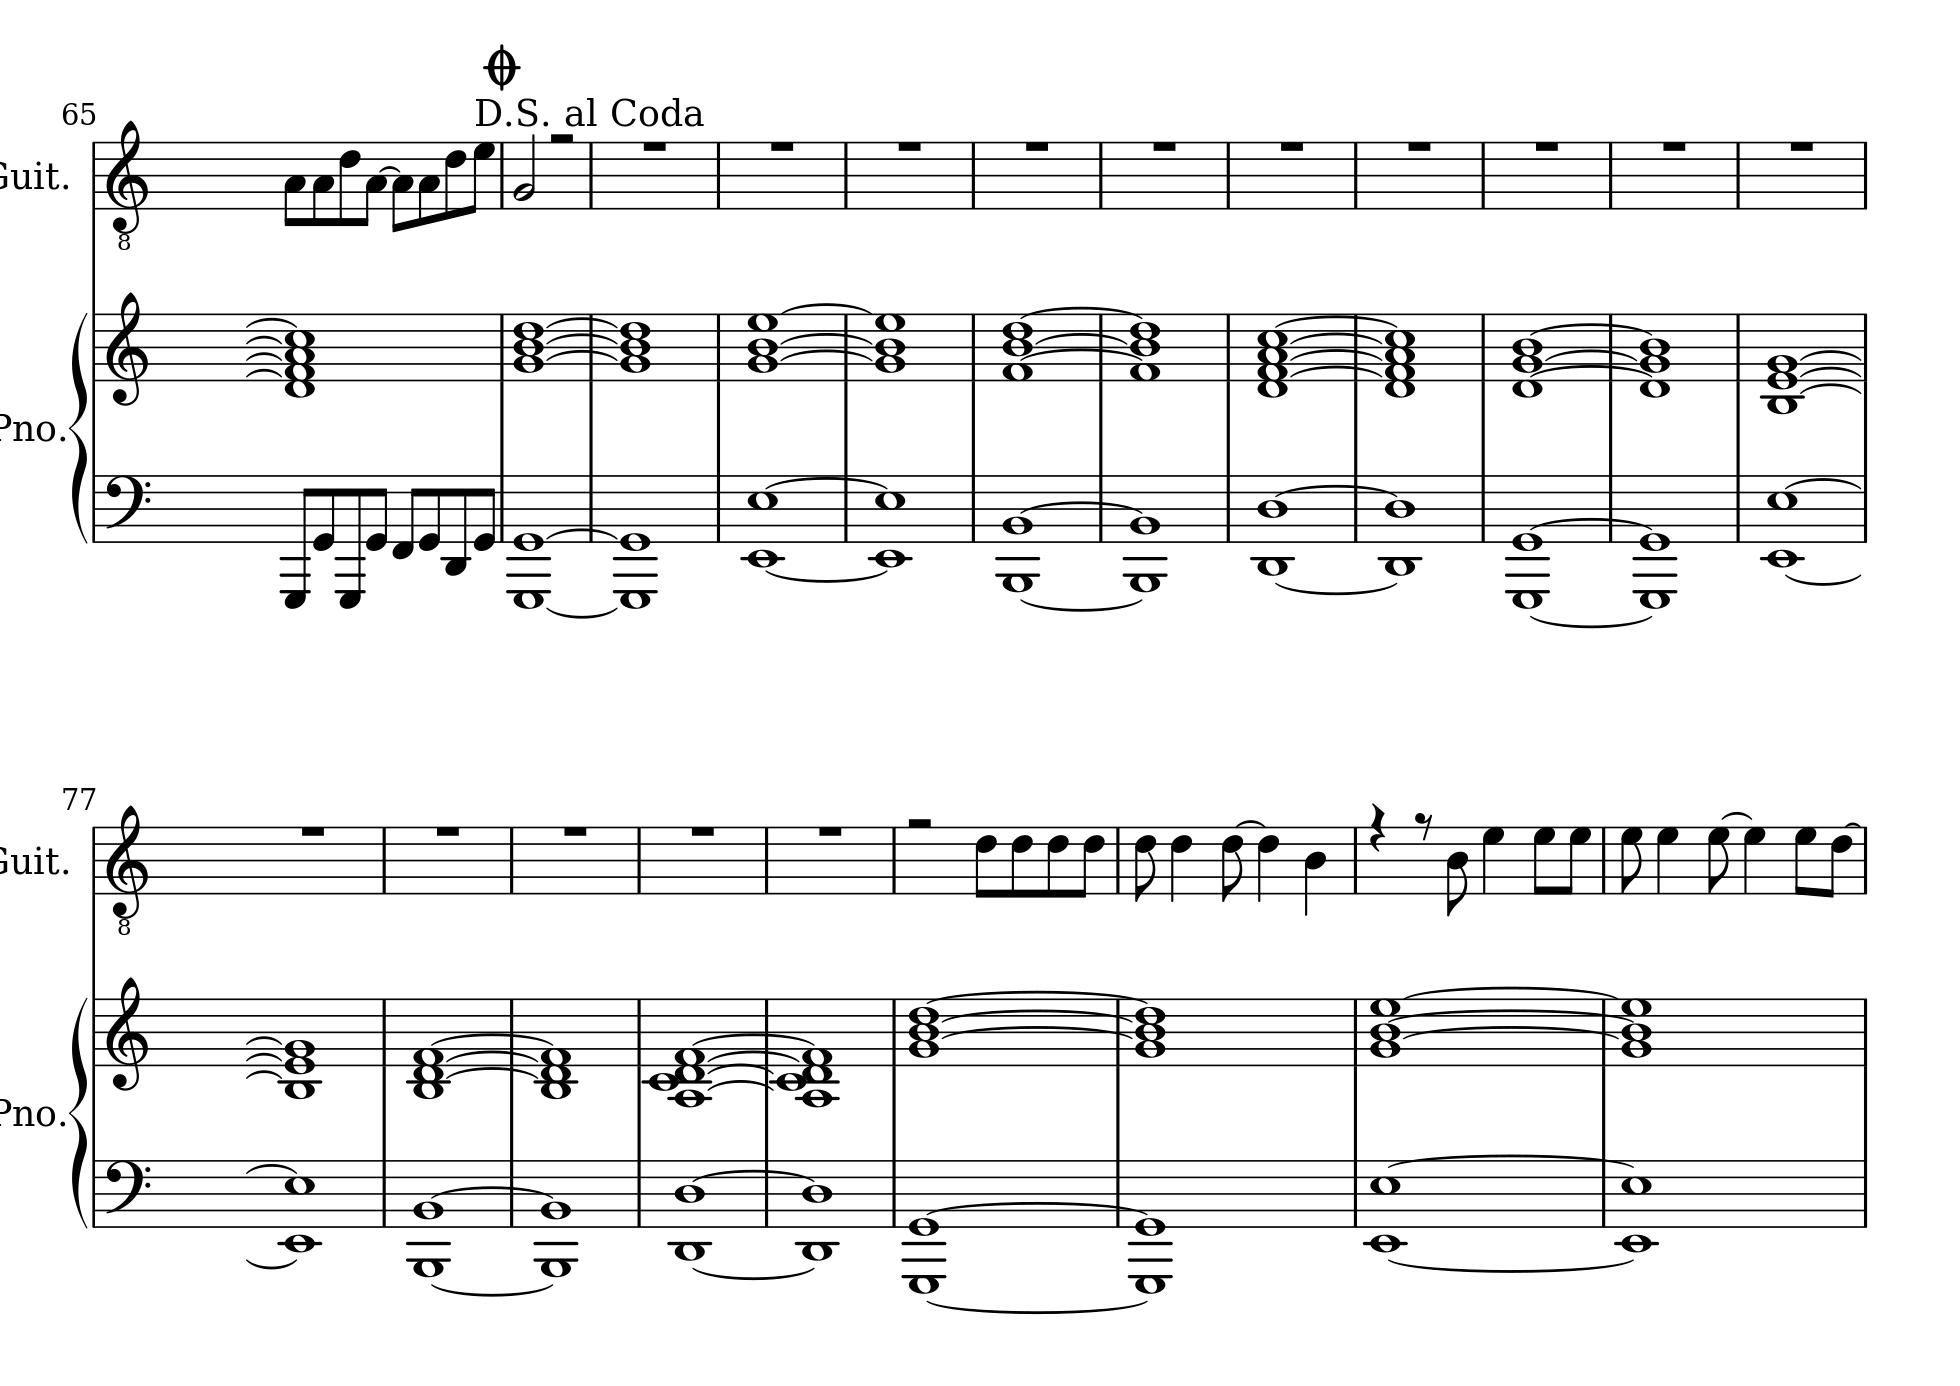1_-2_5: (1758, 475, 1809, 568), (1614, 1159, 1662, 1255), (1362, 1159, 1411, 1252), (279, 1158, 324, 1255), (874, 474, 910, 568), (745, 474, 778, 568)
1_-3_4: (1377, 472, 1426, 577), (1249, 472, 1297, 577), (667, 1159, 714, 1263), (796, 1158, 838, 1263)
1_-5_2: (1123, 472, 1173, 595), (994, 474, 1044, 595), (534, 1158, 582, 1279), (406, 1158, 453, 1278)
1_-7_0: (1503, 474, 1554, 610), (505, 474, 553, 612), (1632, 472, 1680, 610), (901, 1156, 949, 1294), (1128, 1159, 1176, 1294), (613, 472, 658, 609)
1_4th: (772, 997, 841, 1108), (646, 999, 712, 1108), (283, 312, 316, 400), (1257, 310, 1288, 399), (1384, 310, 1416, 397)
1_th: (280, 997, 319, 1101), (537, 997, 574, 1099), (1764, 313, 1800, 415), (409, 997, 445, 1099), (1512, 310, 1543, 399), (1639, 312, 1671, 397), (618, 310, 652, 382), (873, 310, 907, 382), (511, 310, 544, 382), (745, 310, 778, 382), (907, 996, 940, 1066), (1368, 996, 1401, 1066), (1620, 996, 1653, 1066), (1002, 310, 1033, 382), (1129, 310, 1161, 382), (1134, 996, 1165, 1066)
2_2: (511, 132, 537, 211)
4_4: (1303, 823, 1327, 916)
4_6: (1257, 823, 1281, 903), (1170, 823, 1194, 901)
4_7: (1482, 823, 1506, 895), (1656, 825, 1680, 895), (1743, 825, 1767, 895)
5: (79, 99, 96, 127)
6: (60, 99, 79, 127)
7: (61, 783, 78, 811), (79, 783, 96, 811)
8_-1: (390, 472, 421, 559)
8_-3: (442, 474, 471, 577)
8_-7: (280, 472, 315, 610), (336, 474, 366, 610)
8_0: (472, 472, 498, 550), (418, 472, 442, 553), (364, 472, 388, 552), (313, 472, 337, 550)
8_3: (361, 139, 385, 229), (282, 139, 306, 228), (310, 139, 334, 228), (391, 139, 414, 231), (417, 139, 439, 226)
8_4: (1444, 823, 1470, 918)
8_6: (1077, 823, 1108, 898), (1825, 823, 1854, 900), (1219, 823, 1246, 901), (337, 139, 361, 226), (1132, 823, 1158, 901), (973, 823, 999, 900), (442, 139, 466, 220), (1009, 823, 1035, 898), (1047, 823, 1071, 898)
8_7: (1704, 823, 1740, 895), (466, 139, 496, 214), (1791, 825, 1821, 898), (1563, 825, 1593, 895), (1618, 823, 1647, 895), (1533, 825, 1557, 895)
Brace: (67, 994, 90, 1230), (67, 309, 88, 544)
Coda: (483, 42, 520, 91)
DSalcoda: (471, 94, 705, 132)
Fclef: (103, 1158, 153, 1227), (102, 472, 151, 540)
Gclef: (103, 973, 151, 1093), (103, 289, 151, 408)
Guit: (1, 151, 60, 196), (1, 837, 60, 882)
Lower_Gclef: (103, 802, 150, 936), (103, 118, 148, 250)
Pno: (1, 408, 55, 448), (1, 1095, 55, 1131)
Rests1: (297, 820, 330, 840), (639, 136, 670, 154), (766, 136, 798, 154), (894, 136, 925, 154), (1021, 136, 1053, 154), (1149, 136, 1180, 154), (1404, 136, 1435, 154), (1531, 136, 1563, 154), (1659, 136, 1690, 154), (432, 820, 463, 838), (559, 820, 591, 838), (687, 820, 718, 838), (814, 820, 846, 838), (1278, 136, 1308, 154), (1786, 136, 1816, 153)
Rests2: (903, 811, 937, 834), (549, 130, 577, 147)
Rests4: (1368, 801, 1389, 852)
Rests8: (1413, 808, 1435, 841)
Single_barline: (375, 1156, 396, 1228), (502, 1156, 523, 1228), (1602, 472, 1623, 541), (502, 997, 523, 1066), (630, 1156, 649, 1228), (757, 997, 778, 1063), (580, 472, 600, 543), (1093, 472, 1113, 543), (1731, 472, 1749, 543), (1347, 472, 1365, 543), (757, 1158, 775, 1228), (1857, 474, 1875, 543), (375, 825, 393, 894), (502, 825, 520, 894), (757, 825, 775, 894), (964, 141, 982, 208), (964, 312, 982, 379), (1110, 826, 1128, 894), (1596, 826, 1614, 894), (709, 139, 726, 210), (1857, 310, 1873, 381), (711, 472, 727, 543), (966, 472, 982, 543), (885, 823, 901, 894), (1093, 139, 1110, 208), (1348, 139, 1365, 208), (1476, 139, 1492, 208), (1603, 139, 1620, 208), (709, 312, 726, 381), (1476, 472, 1492, 541), (631, 825, 648, 894), (1347, 1158, 1363, 1227), (837, 474, 853, 541), (1858, 826, 1875, 894), (631, 997, 648, 1065), (1857, 997, 1873, 1065), (1731, 313, 1747, 379), (376, 997, 393, 1063), (1857, 1159, 1873, 1225), (886, 1156, 901, 1228), (493, 474, 510, 538), (583, 139, 598, 210), (1857, 139, 1872, 210), (1221, 472, 1236, 543), (1603, 310, 1621, 369), (1221, 139, 1236, 208), (1731, 139, 1746, 208), (87, 997, 102, 1066), (88, 1158, 103, 1227), (1110, 1158, 1125, 1227), (838, 141, 853, 208), (1221, 312, 1236, 379), (1476, 312, 1491, 379), (87, 313, 102, 379), (886, 997, 901, 1063), (493, 313, 508, 376), (87, 141, 100, 210), (1348, 825, 1362, 894), (87, 826, 100, 895), (1596, 1159, 1611, 1221), (88, 474, 102, 541), (1348, 997, 1362, 1063), (496, 139, 508, 211), (838, 313, 853, 370), (1095, 313, 1108, 373), (1350, 313, 1365, 367), (586, 313, 598, 355)
Slur: (925, 1299, 1146, 1317), (1387, 1009, 1638, 1024), (925, 988, 1152, 1005), (1386, 1258, 1633, 1273), (1390, 1153, 1636, 1168), (922, 1201, 1149, 1216), (1404, 985, 1614, 1000), (1402, 1027, 1626, 1041), (937, 1026, 1137, 1041), (937, 1009, 1134, 1024), (1530, 517, 1650, 535), (1275, 481, 1401, 498), (427, 1183, 549, 1200), (1530, 321, 1647, 337), (765, 475, 891, 490), (1020, 595, 1143, 610), (690, 1167, 813, 1182), (1272, 313, 1393, 328), (1020, 499, 1140, 514), (1537, 364, 1650, 379), (432, 1282, 555, 1296), (1024, 304, 1143, 318), (1288, 337, 1389, 352), (763, 570, 886, 582), (1530, 615, 1653, 627), (1284, 331, 1392, 345), (1276, 582, 1398, 594), (693, 1267, 814, 1279), (699, 1048, 802, 1062), (1545, 346, 1645, 360), (1026, 345, 1137, 357), (699, 1054, 787, 1069), (1800, 351, 1863, 372), (444, 1048, 541, 1062), (1290, 345, 1383, 358), (778, 346, 871, 360), (1290, 366, 1381, 379), (778, 301, 871, 313), (778, 333, 871, 345), (1783, 477, 1864, 490), (544, 328, 616, 343), (1785, 573, 1863, 586), (1032, 333, 1131, 343), (544, 526, 619, 540), (445, 1066, 538, 1077), (544, 606, 619, 618), (547, 316, 616, 328), (244, 313, 298, 328), (543, 349, 618, 360), (244, 1255, 297, 1270), (1800, 348, 1863, 360), (1800, 382, 1863, 394), (706, 1062, 778, 1072), (706, 1078, 774, 1089), (1800, 366, 1864, 376), (244, 1162, 297, 1174), (246, 367, 283, 379), (244, 1033, 282, 1045), (244, 334, 285, 345), (244, 351, 283, 361), (244, 1068, 282, 1078), (244, 1051, 283, 1060), (1720, 810, 1753, 820), (1236, 817, 1266, 828), (378, 163, 400, 172)
